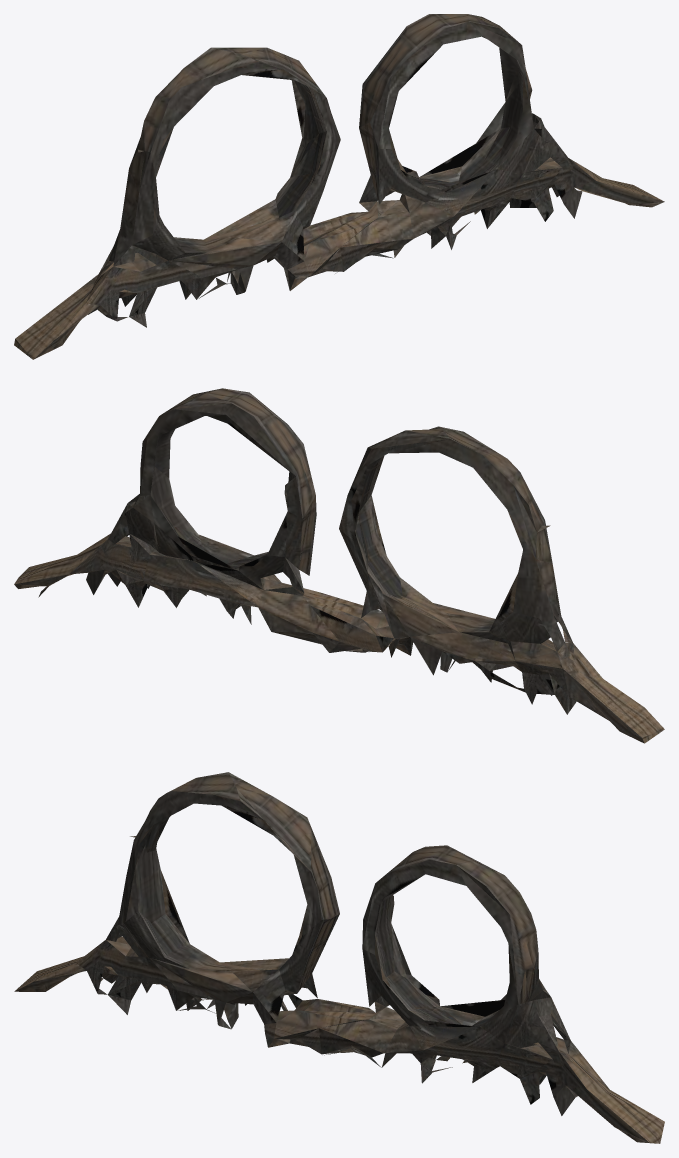
File: stunt-double-loop-ramps.lod.glb
3 views of the same model, one above another, from view 1: azimuth 30°, elevation 25°; view 2: azimuth 150°, elevation 25°; view 3: azimuth 330°, elevation 25° (orthographic).
Visible parts, largest first — view 1: output_unwrapped; view 2: output_unwrapped; view 3: output_unwrapped.
Part boxes in pixels (x1,y1,x2,y2): output_unwrapped: (14, 14, 664, 359); output_unwrapped: (14, 388, 664, 743); output_unwrapped: (14, 772, 664, 1143).
Size of the model in its own units: 1.77 by 0.6731 by 0.1691.
1 material, 1 textured.
